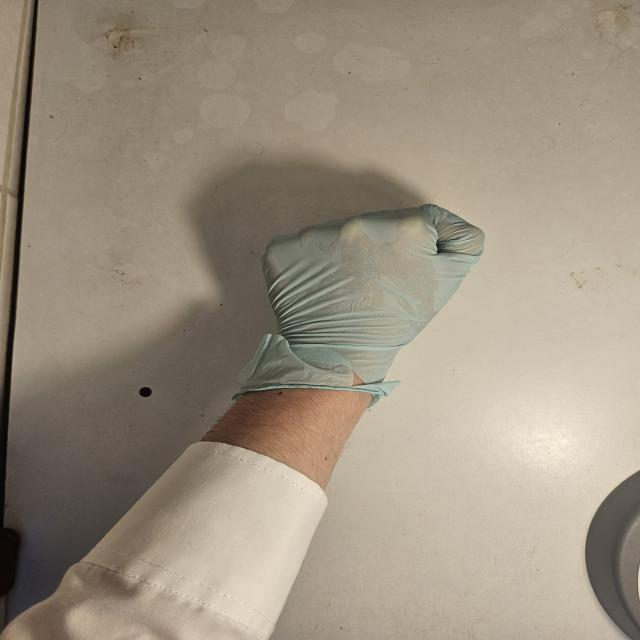gloves_damaged: (230, 204, 488, 405)
